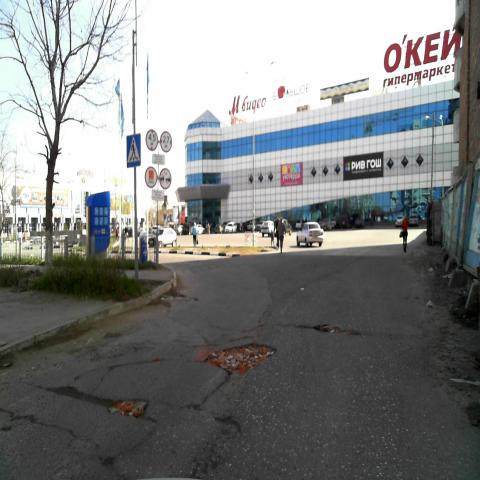3_13: (145, 128, 157, 152)
3_14: (160, 131, 172, 153)
3_16: (160, 168, 172, 189)
3_32: (145, 167, 158, 188)
